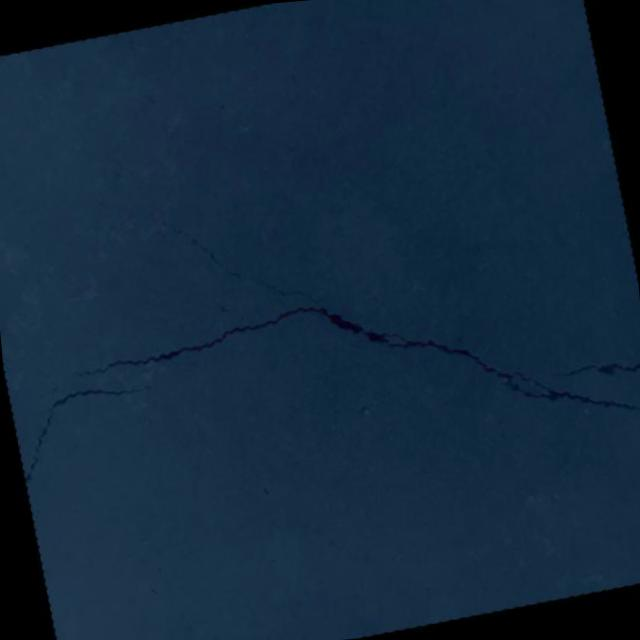crack: (31, 114, 640, 524), (9, 373, 178, 488), (78, 135, 152, 232), (549, 353, 640, 388)
